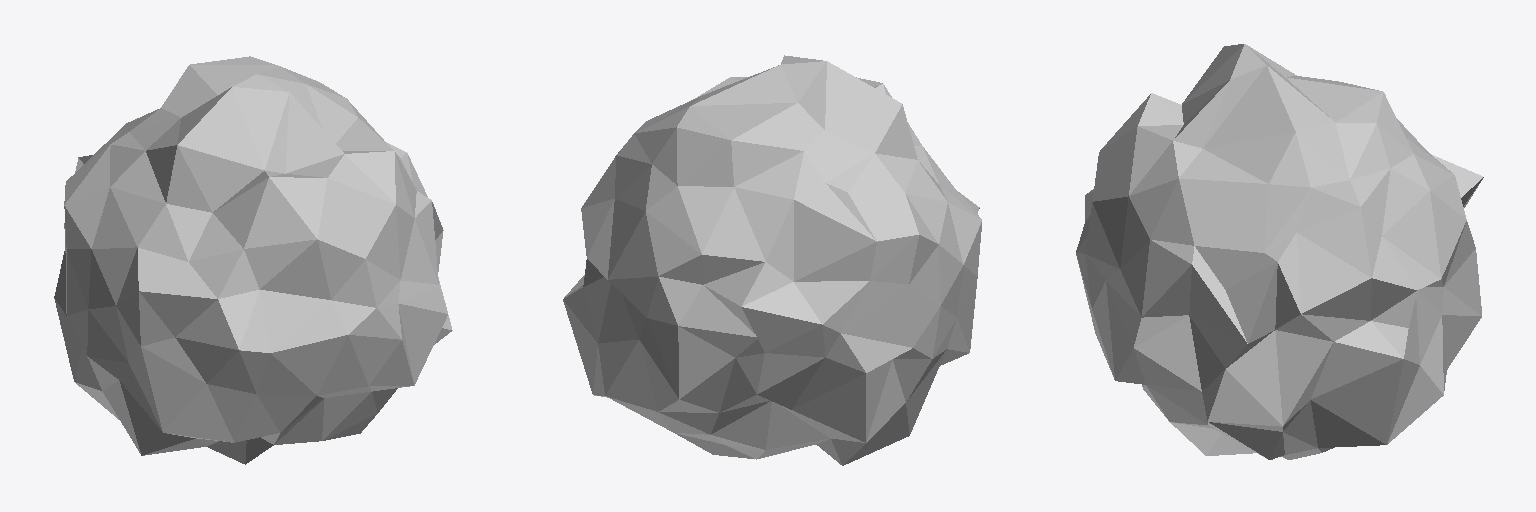
The model's file is fire_000022.obj.
The picture shows the model from 3 angles: view 1: azimuth 30°, elevation 25°; view 2: azimuth 150°, elevation 25°; view 3: azimuth 270°, elevation 25°; orthographic projection.
Visible parts, largest first — view 1: Icosphere; view 2: Icosphere; view 3: Icosphere.
Part boxes in pixels (left/top/right/bottom): Icosphere: left=54, top=56, right=452, bottom=464; Icosphere: left=563, top=55, right=981, bottom=465; Icosphere: left=1076, top=44, right=1483, bottom=459.
Bounding box in the file's own units: 1.52 × 1.62 × 1.56.